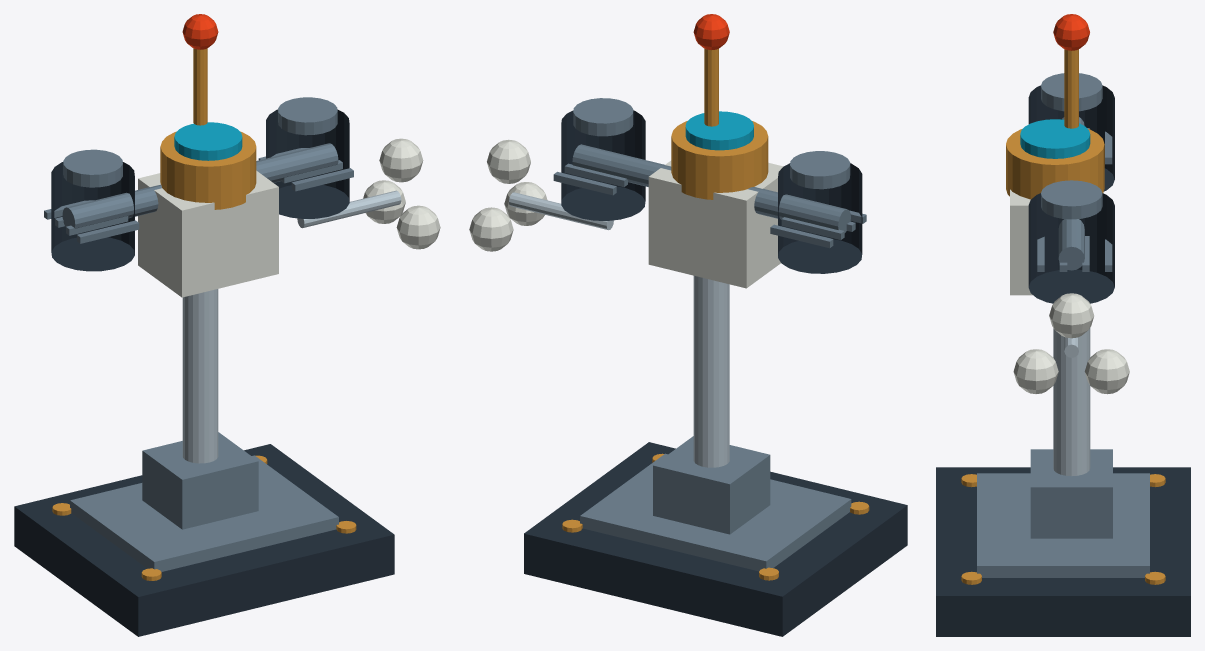
The model's file is 04_Sensor_Atmosferico.obj.
3 renders of one model, left to right at view 1: azimuth 30°, elevation 25°; view 2: azimuth 150°, elevation 25°; view 3: azimuth 270°, elevation 25°, orthographic. The views are drawn at different scales.
Visible parts, largest first — view 1: Sensor_Atmosferico; view 2: Sensor_Atmosferico; view 3: Sensor_Atmosferico.
Boxes of the visible parts, <box> form: Sensor_Atmosferico: <box>14,14,440,636</box>; Sensor_Atmosferico: <box>469,14,907,636</box>; Sensor_Atmosferico: <box>936,14,1190,636</box>.
Size of the model in its own units: 1.05 by 1.5 by 0.62.
